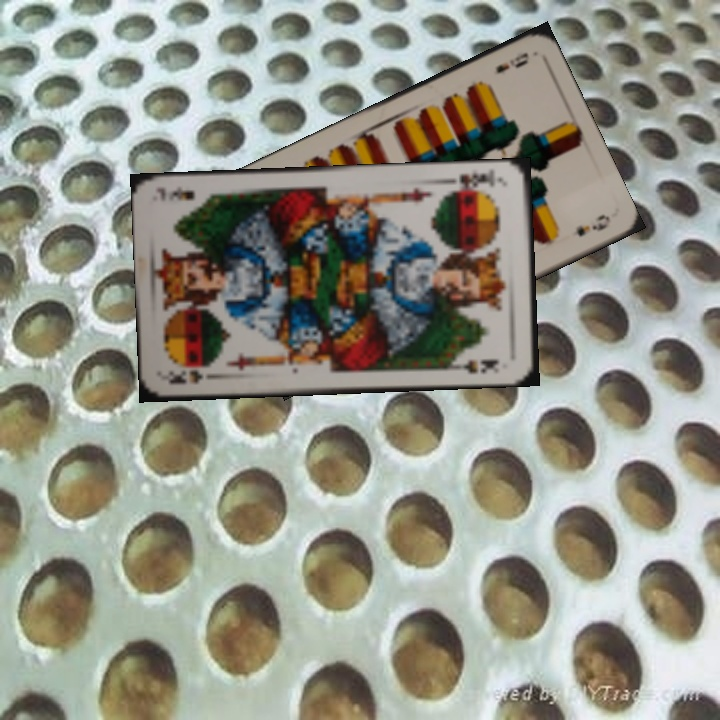E9: (491, 48, 531, 76)
SK: (446, 166, 505, 195), (163, 365, 205, 386)
